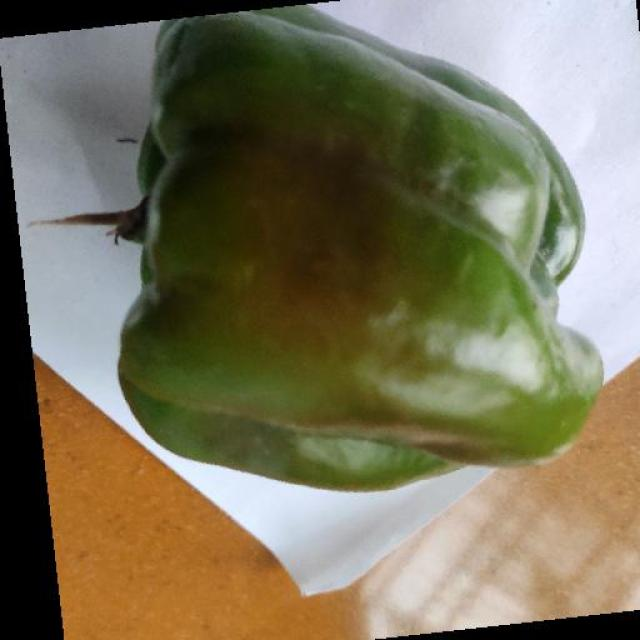Stale_Capsicum: (143, 0, 580, 468)
